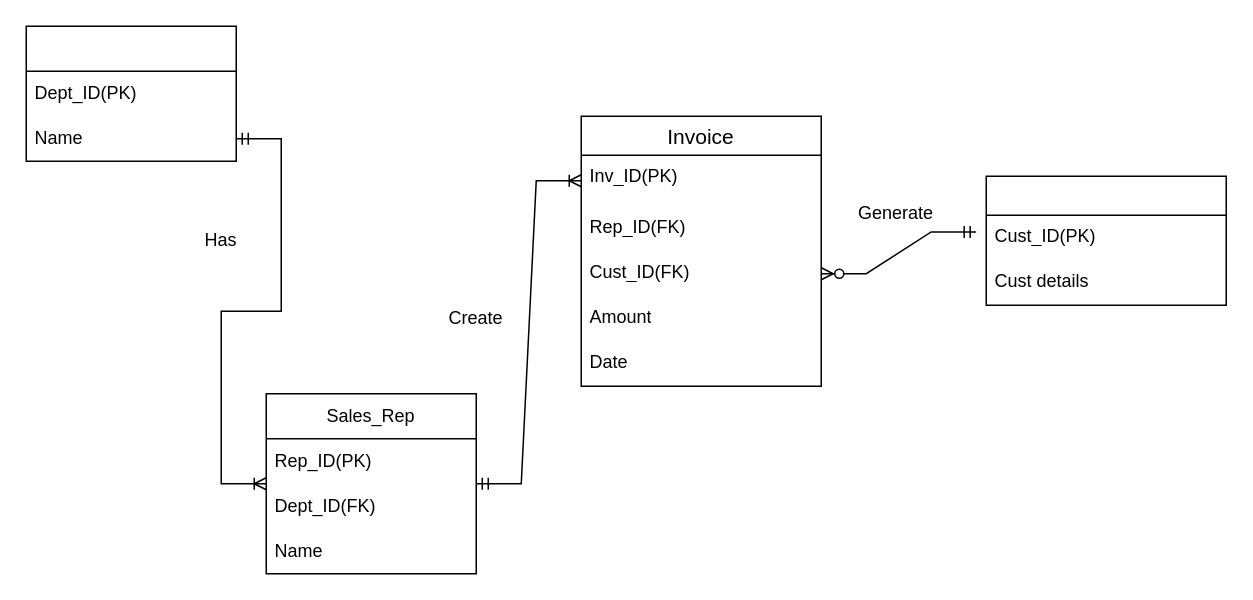
This 1253x600 diagram has some shape labels left out. Here are the shapes that lost their labels. From the top down, the box of each, then its label:
(25, 25, 236, 161): Departmern
(985, 175, 1226, 305): Customer
